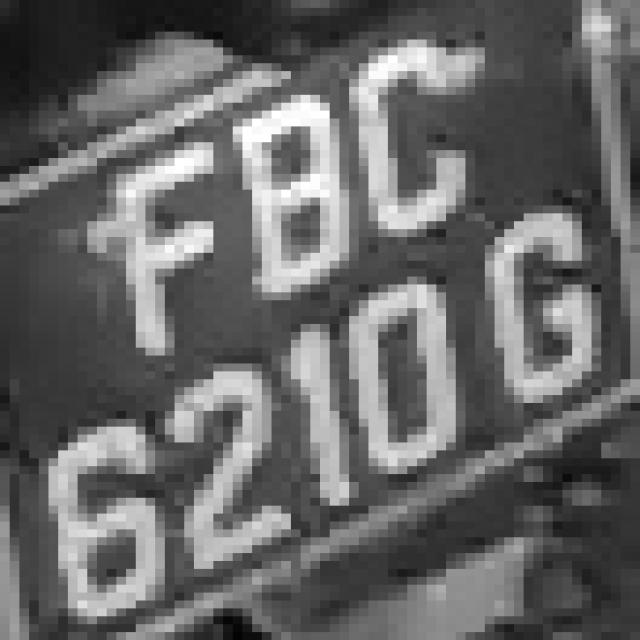0: (330, 284, 485, 490)
1: (282, 300, 340, 522)
2: (146, 356, 300, 592)
6: (0, 5, 2, 8)
B: (213, 79, 359, 308)
C: (340, 32, 476, 260)
F: (97, 127, 242, 356)
G: (446, 198, 601, 418)
